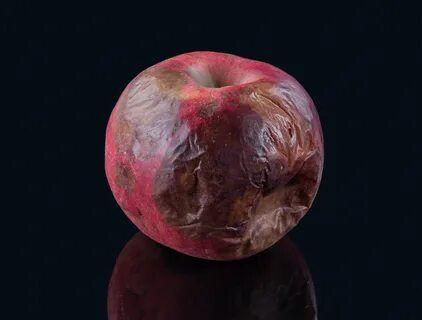Apple: (103, 52, 320, 255)
